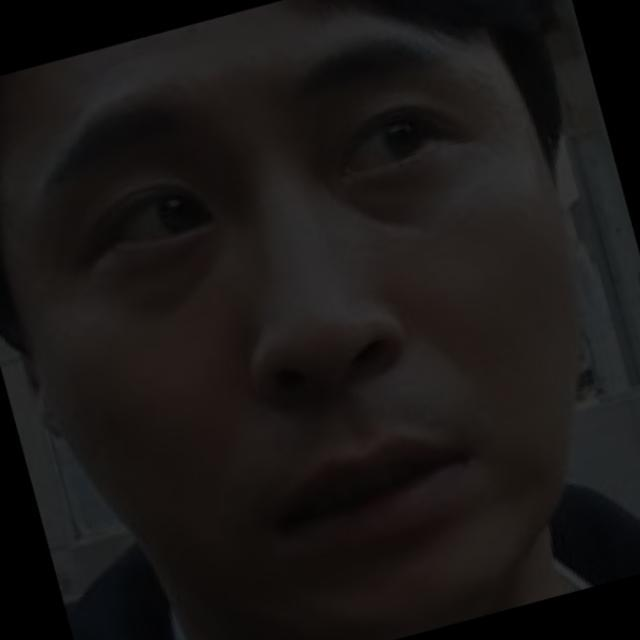Sad: (29, 45, 629, 569)
